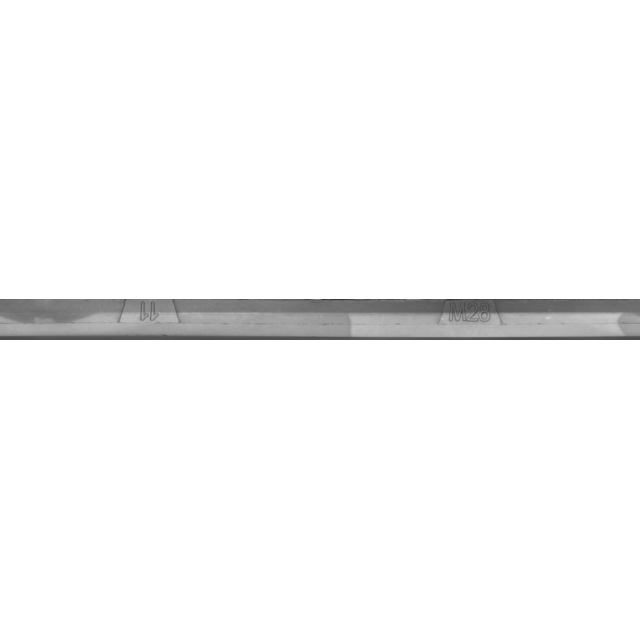mohao: (373, 270, 573, 370)
xuehao: (51, 270, 251, 370)
